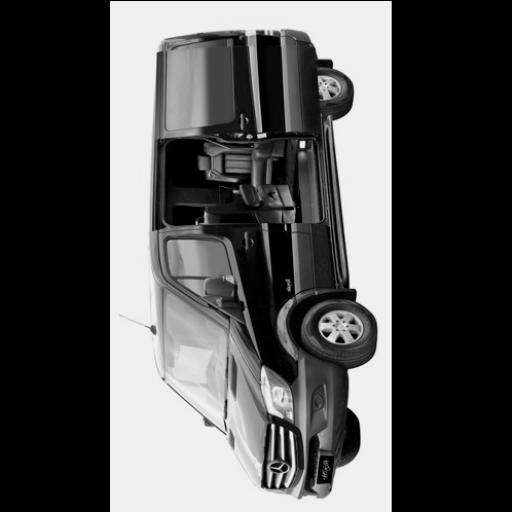van: (149, 28, 375, 497)
